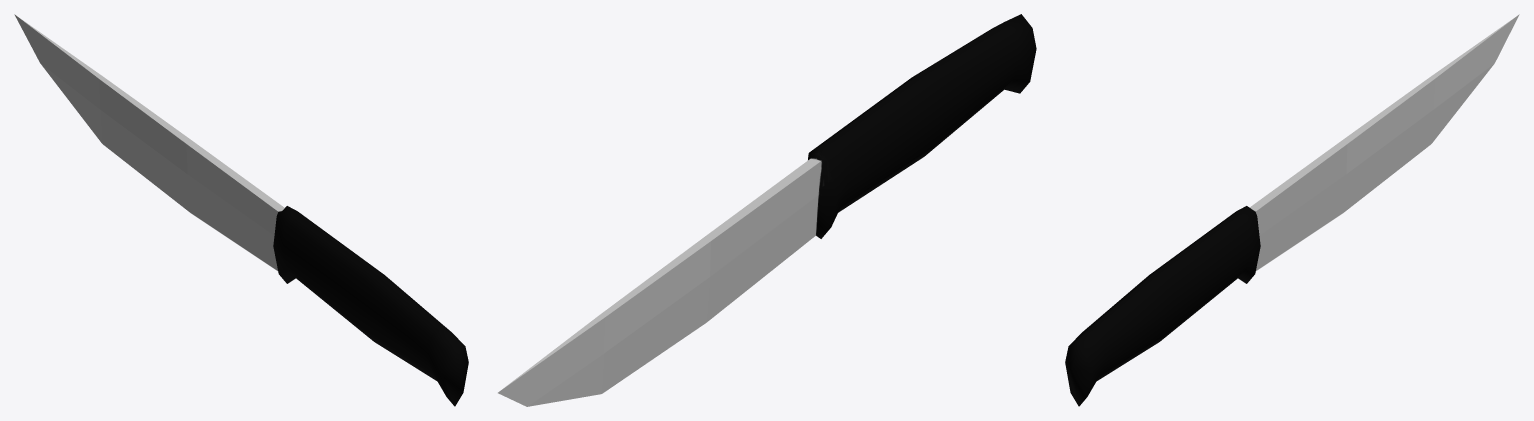
File: Knife.fbx
The picture shows the model from 3 angles, left to right: view 1: azimuth 30°, elevation 25°; view 2: azimuth 150°, elevation 25°; view 3: azimuth 330°, elevation 25°; orthographic projection. The views are drawn at different scales.
Parts seen in each view (by area): view 1: Knife; view 2: Knife; view 3: Knife.
Part boxes in pixels (left/top/right/bottom): Knife: left=14, top=14, right=468, bottom=406; Knife: left=498, top=14, right=1036, bottom=406; Knife: left=1065, top=14, right=1519, bottom=406.
Bounding box in the file's own units: 1 × 2.7 × 27.87.
